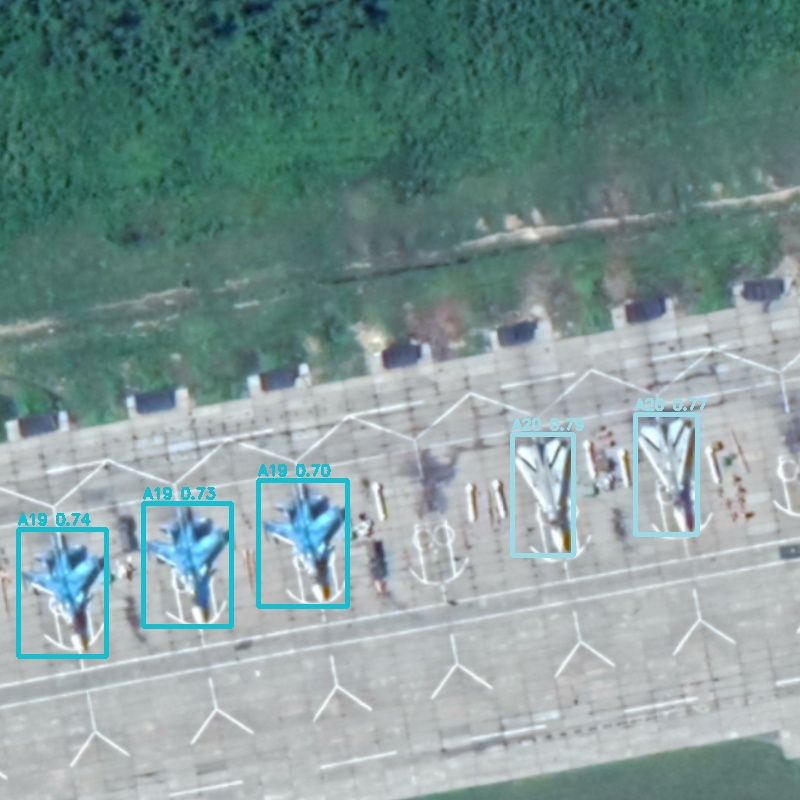A19: (258, 480, 347, 606), (18, 529, 106, 656), (143, 503, 231, 626)
A20: (635, 414, 697, 534), (512, 434, 573, 555)
